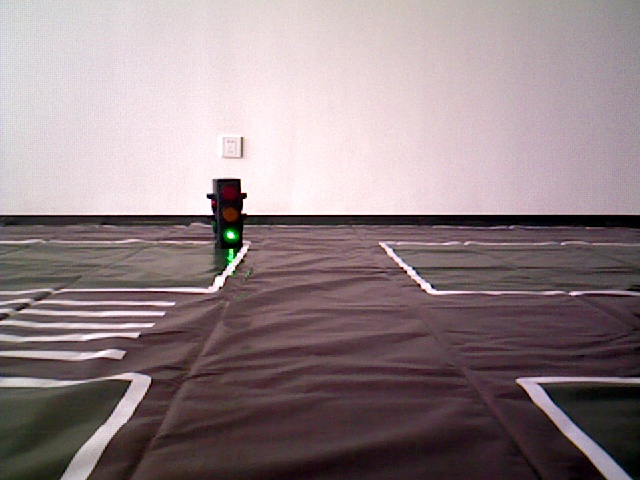green: (213, 182, 241, 243)
